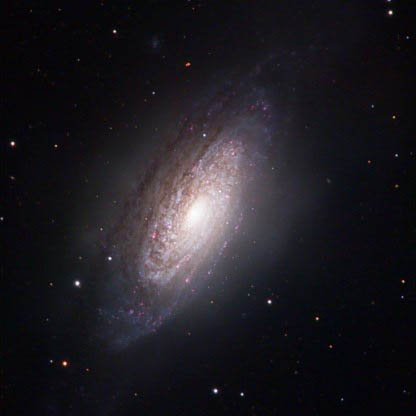NGC 3521: (59, 29, 309, 375)
